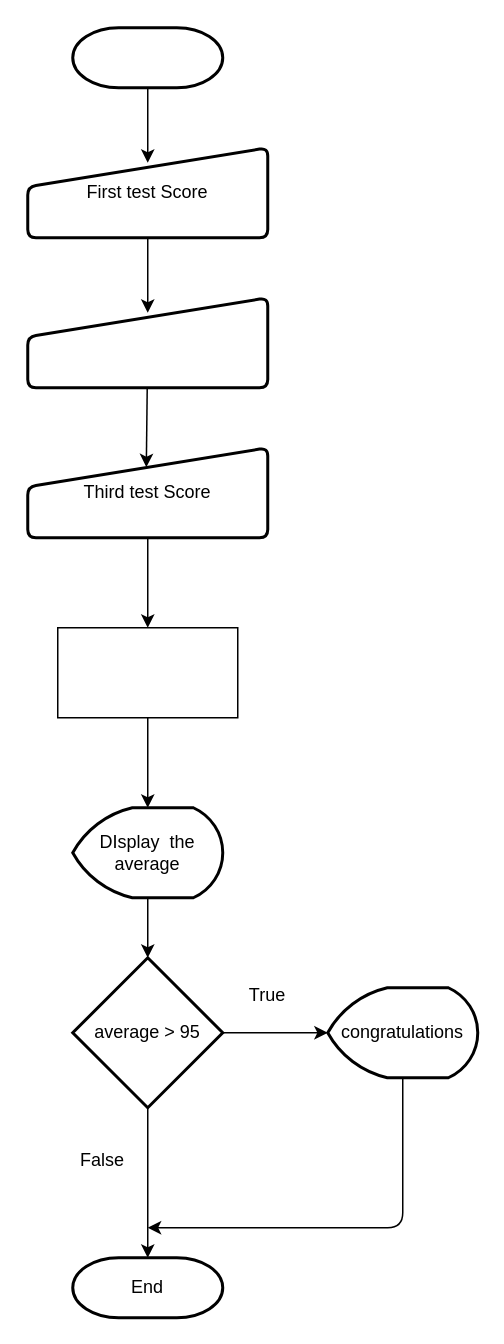
Image size: 504x1344. Some labels were removed from this diagram. Each missing label, with the centre of its shape:
"average = (First+Second+Third) /3" belongs at pixel 147 672.
"Second test Score" belongs at pixel 147 342.
"Start" belongs at pixel 147 57.
